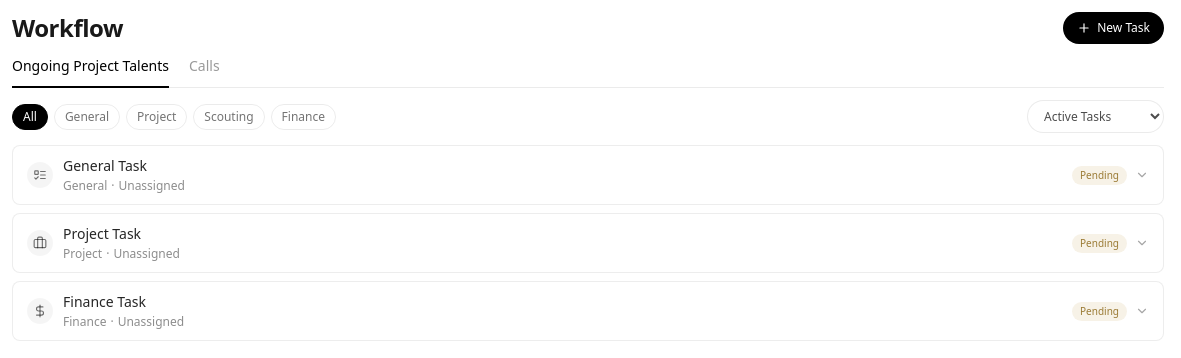
WorkflowPage — category pill navigation › Project filters to only category=project tasks
Expected: the text "General Task" is shown, [63, 156, 147, 175]
Click the button "project": (157, 116) [126, 104, 187, 130]
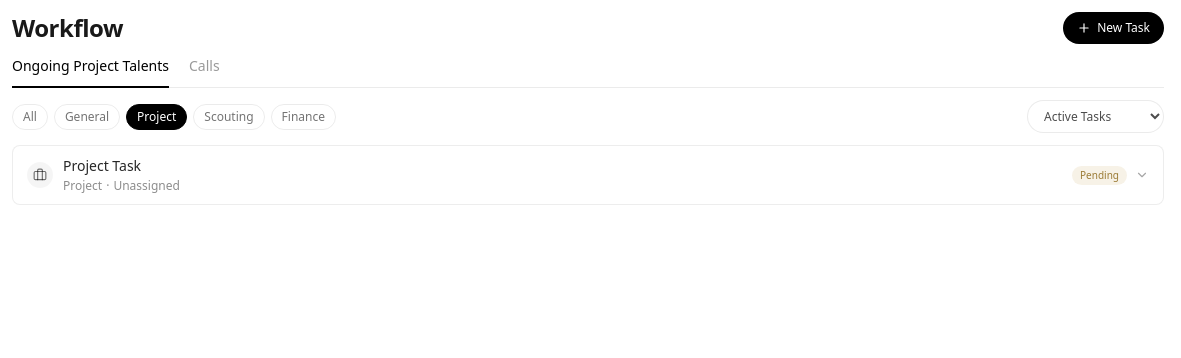
Expected: the text "Project Task" is shown, [63, 156, 141, 175]
Expected: the text "General Task" is gone
Expected: the text "Finance Task" is gone
